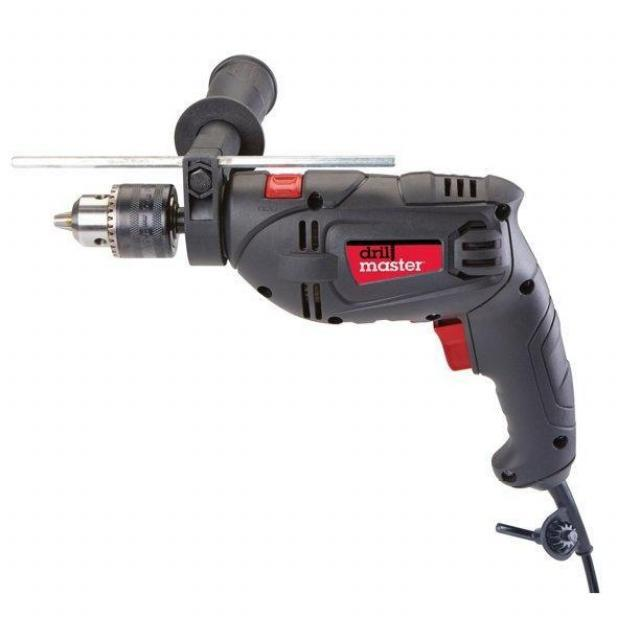drill: (10, 55, 601, 594)
